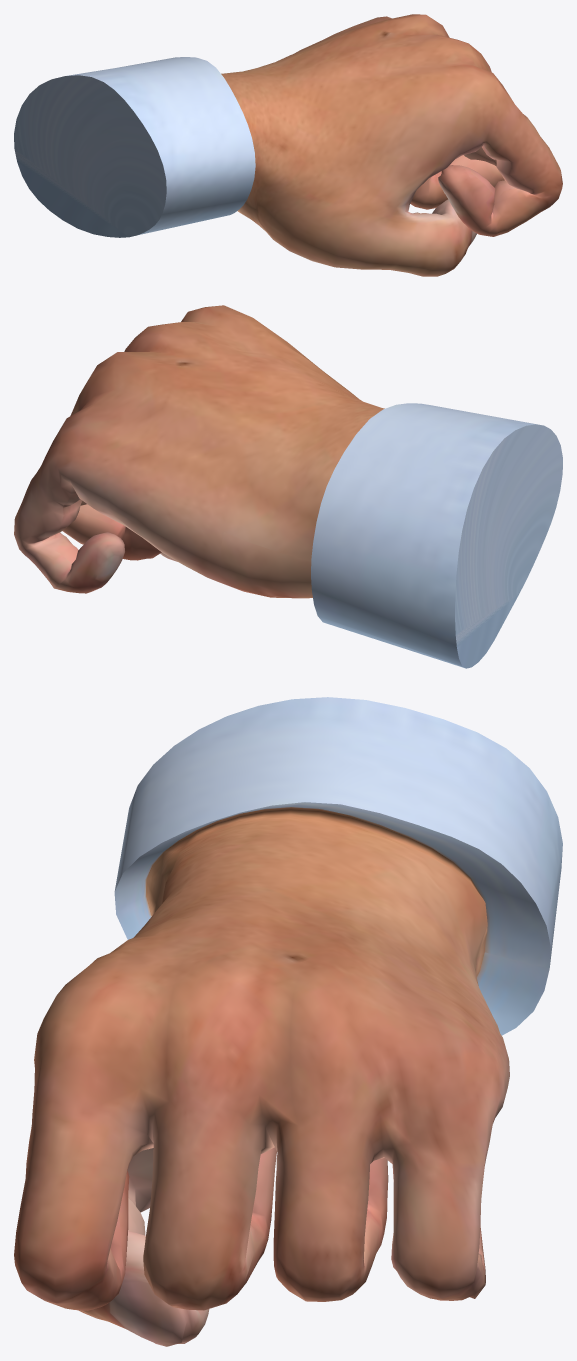
File: fist.fbx
3 renders of one model, top to bottom at view 1: azimuth 30°, elevation 25°; view 2: azimuth 150°, elevation 25°; view 3: azimuth 270°, elevation 25°, orthographic. The views are drawn at different scales.
Visible parts, largest first — view 1: polySurface1; view 2: polySurface1; view 3: polySurface1.
Boxes of the visible parts, box(x1,y1,x2,y2) form: polySurface1: box(14, 14, 562, 276); polySurface1: box(14, 305, 562, 668); polySurface1: box(14, 697, 562, 1346).
Bounding box in the file's own units: 16.13 × 8.01 × 10.47.
